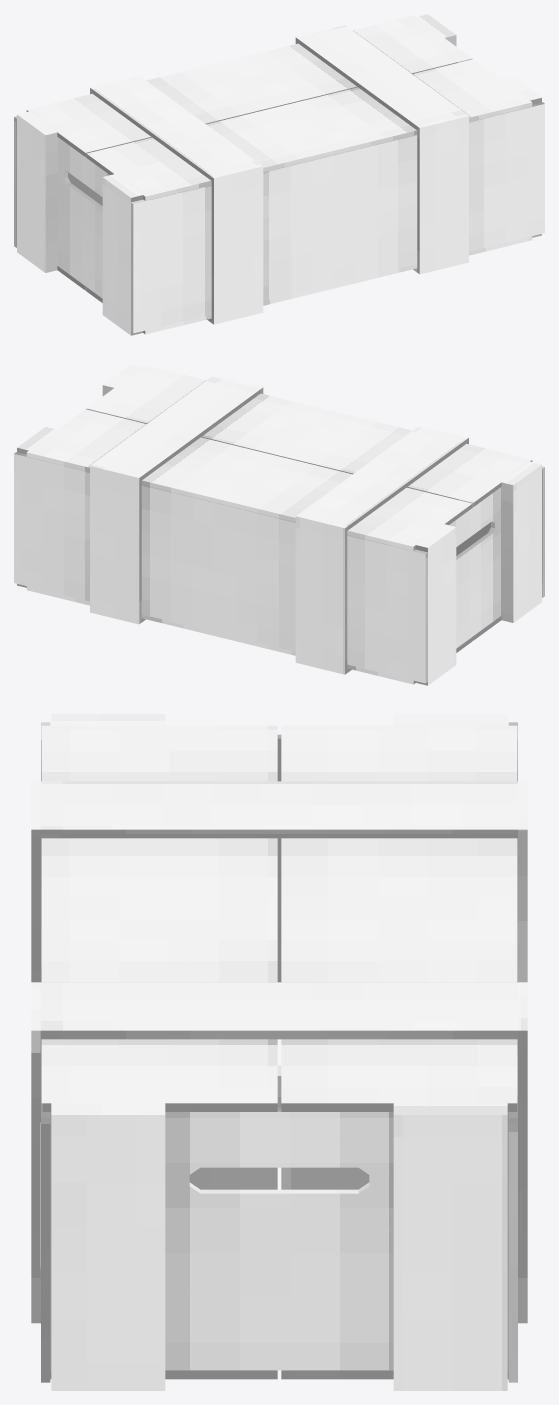
The model's file is CrateWoodenClosed.glb.
The picture shows the model from 3 angles, top to bottom: view 1: azimuth 30°, elevation 25°; view 2: azimuth 150°, elevation 25°; view 3: azimuth 270°, elevation 25°; orthographic projection. The views are drawn at different scales.
Parts seen in each view (by area): view 1: CrateWoodenClosed; view 2: CrateWoodenClosed; view 3: CrateWoodenClosed.
Boxes of the visible parts, x1,y1,x2,y2 form: CrateWoodenClosed: (14, 14, 544, 335); CrateWoodenClosed: (14, 364, 544, 685); CrateWoodenClosed: (31, 714, 527, 1390).
Size of the model in its own units: 0.5 by 0.17 by 0.261.
Materials: 1 (1 with a texture image).
